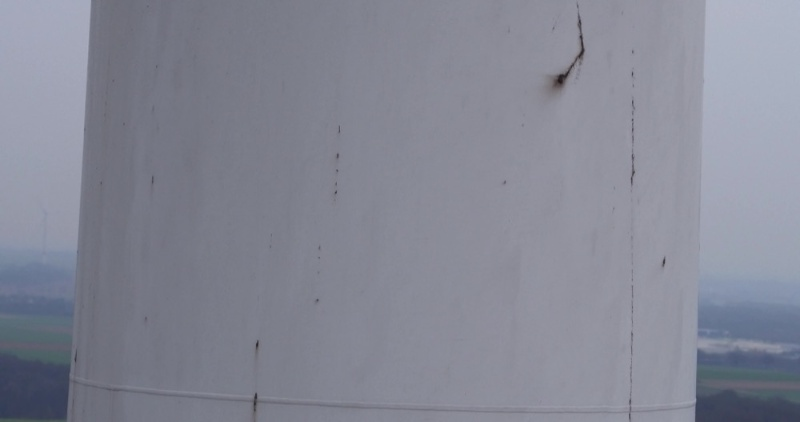weldseam: (65, 367, 700, 416)
